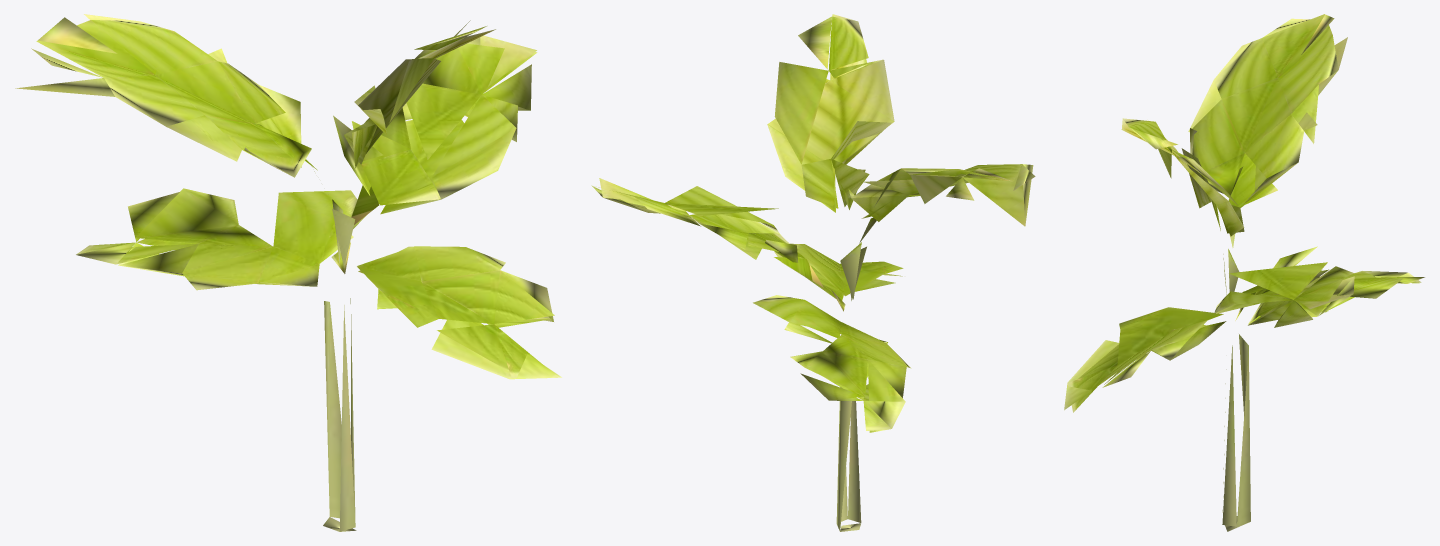
File: crop-seedling.lod1.glb
The picture shows the model from 3 angles, left to right: view 1: azimuth 30°, elevation 25°; view 2: azimuth 150°, elevation 25°; view 3: azimuth 270°, elevation 25°; orthographic projection. The views are drawn at different scales.
Parts seen in each view (by area): view 1: plant.001; view 2: plant.001; view 3: plant.001.
Boxes of the visible parts, left/top/right/bottom form: plant.001: left=15, top=14, right=561, bottom=531; plant.001: left=591, top=14, right=1035, bottom=531; plant.001: left=1064, top=14, right=1424, bottom=531.
Bounding box in the file's own units: 0.1228 × 0.1213 × 0.0918.
1 material, 1 textured.
